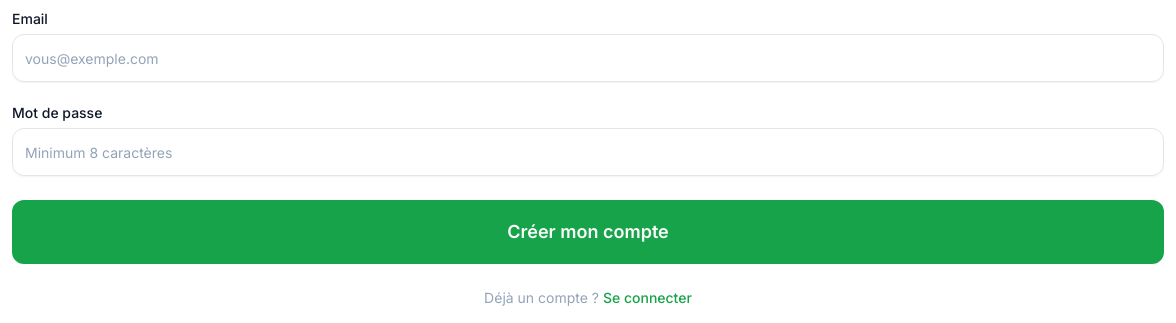
Test: RegisterForm › should show loading state during submission
Step 1. Type "test@example.com" into the field labelled "Email" → (588, 58), box [12,34,1164,82]
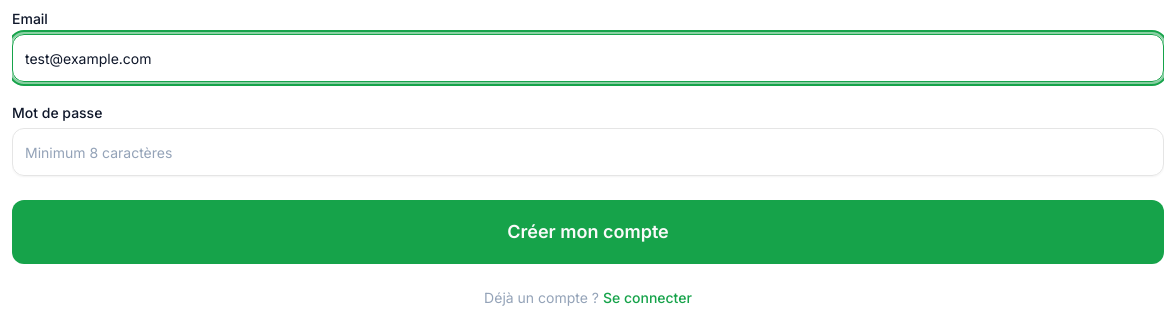
Step 2. Type "password123" into the password field labelled "Mot de passe" → (588, 152), box [12,128,1164,176]
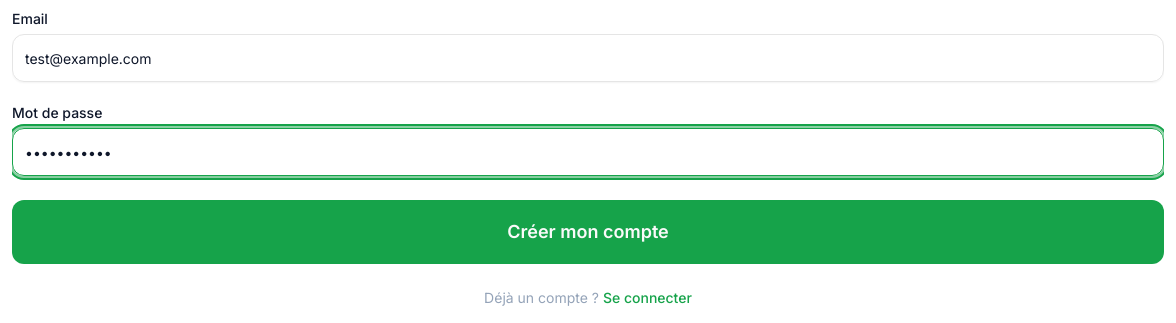
Step 3. Click the button "Créer mon compte" → (588, 232), box [12,200,1164,264]
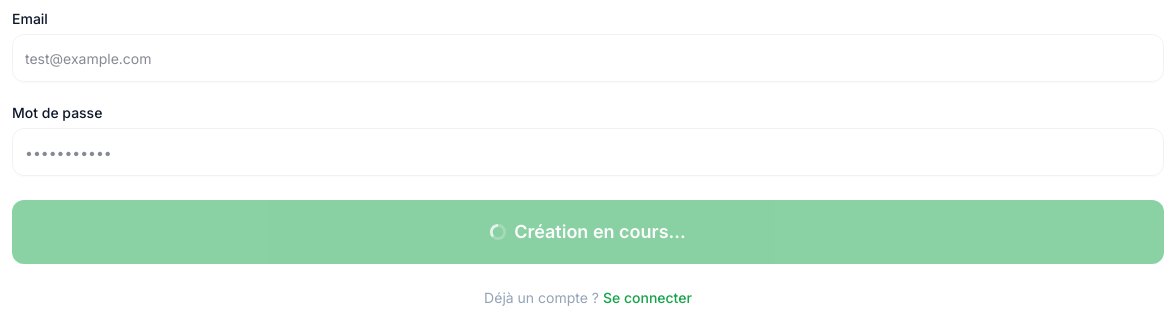
Expected: the text "Création en cours..." is shown, [490,218,686,246]
